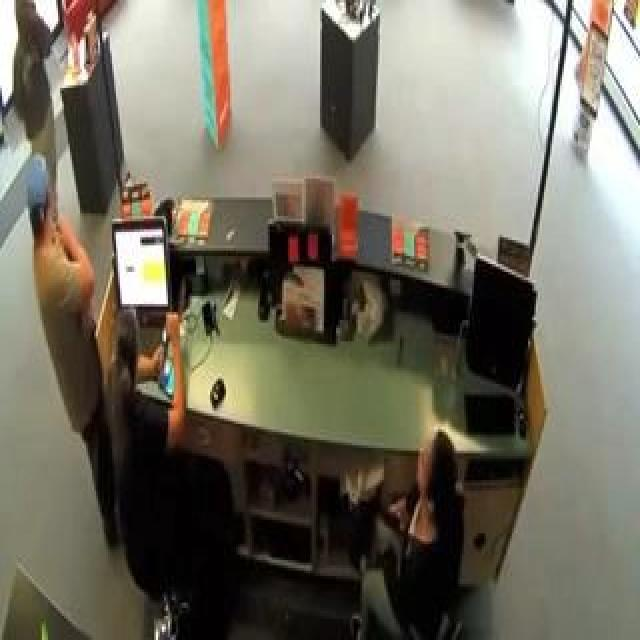high_con: (10, 0, 46, 52)
low_con: (20, 160, 58, 249)
no_con: (415, 431, 463, 525), (110, 304, 140, 396)
